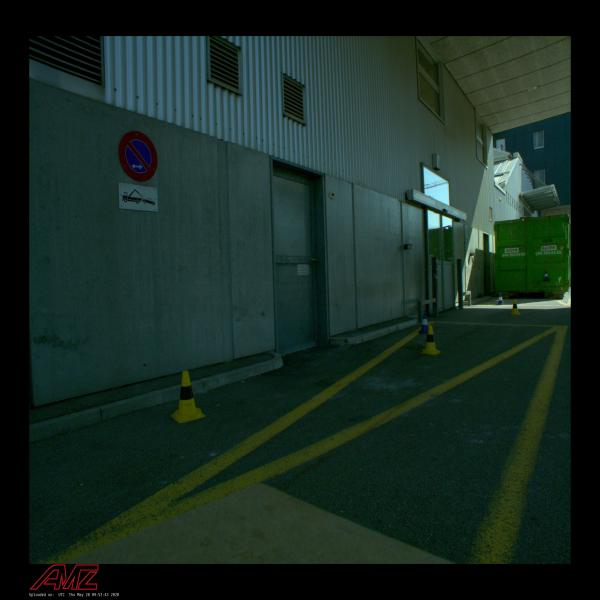blue_cone: (418, 313, 428, 333), (496, 294, 504, 305)
yellow_cone: (171, 371, 205, 424), (420, 326, 441, 355), (510, 299, 520, 315)
